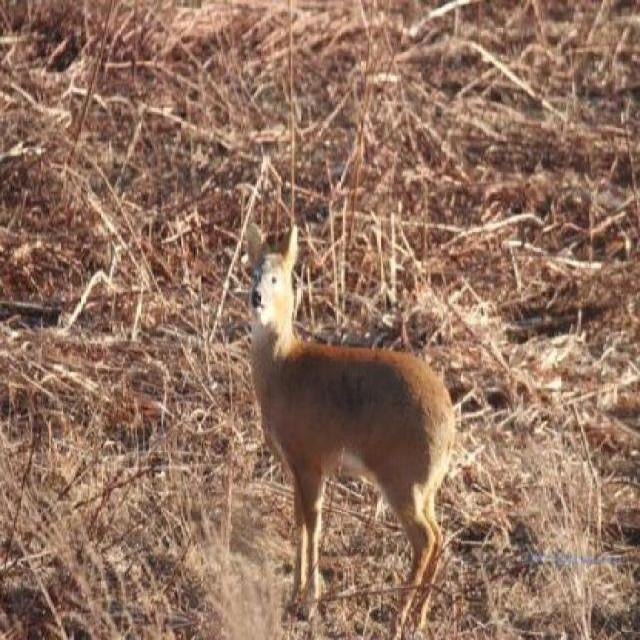deer: (241, 219, 457, 638)
